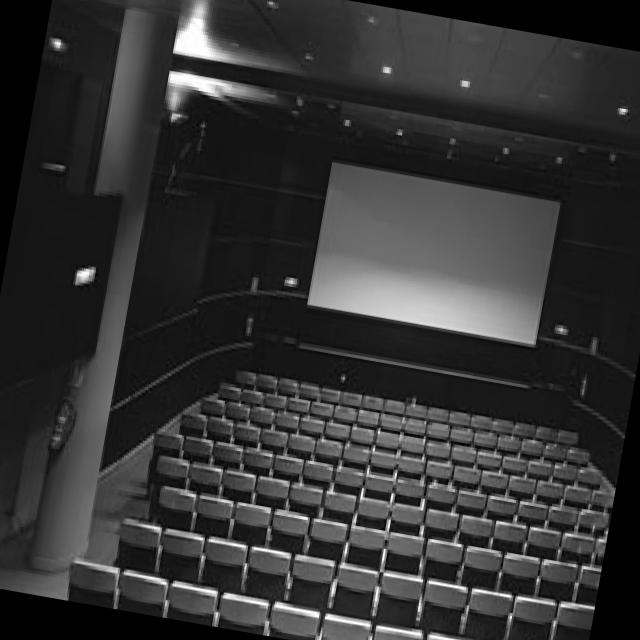ceiling beam: (67, 0, 640, 188)
column occluded: (28, 3, 181, 569)
floor -X: (0, 367, 616, 640)
lamp crop: (306, 48, 317, 60), (385, 61, 394, 74), (620, 105, 630, 115), (463, 77, 472, 86)
screen occluded: (309, 160, 563, 345)
seats crop: (70, 367, 612, 640)
wall clock: (103, 112, 640, 483)
